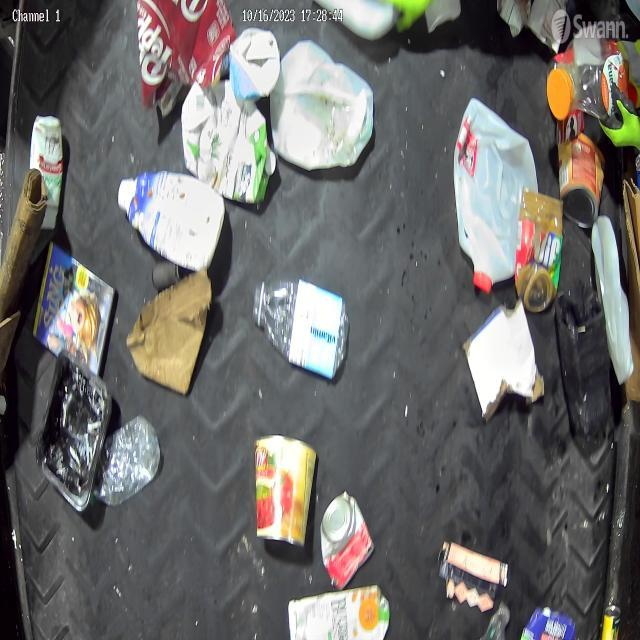can: (252, 434, 314, 554), (558, 114, 610, 232), (320, 490, 372, 580)
milk_jug: (452, 96, 537, 298), (272, 40, 375, 174)
non_white_jug: (115, 170, 225, 274)
plastic_bottle: (254, 274, 354, 388), (100, 412, 162, 495)
